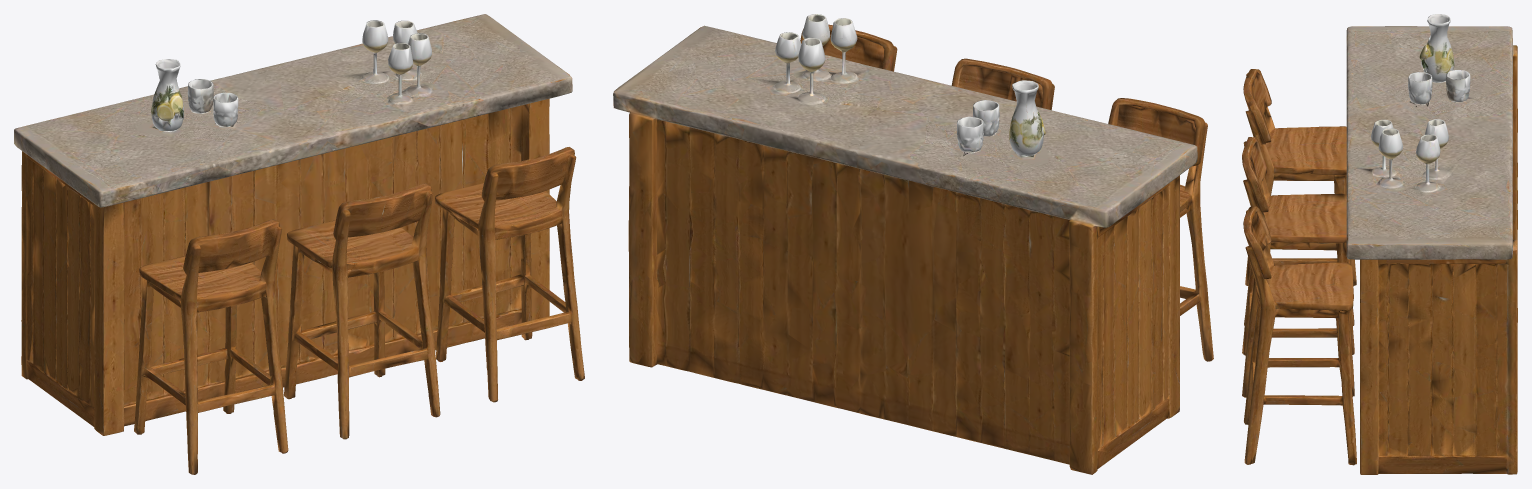
The model's file is bar.glb.
3 renders of one model, left to right at view 1: azimuth 30°, elevation 25°; view 2: azimuth 150°, elevation 25°; view 3: azimuth 270°, elevation 25°, orthographic. The views are drawn at different scales.
Size of the model in its own units: 1.9 by 1.22 by 1.01.
1 material, 1 textured.
